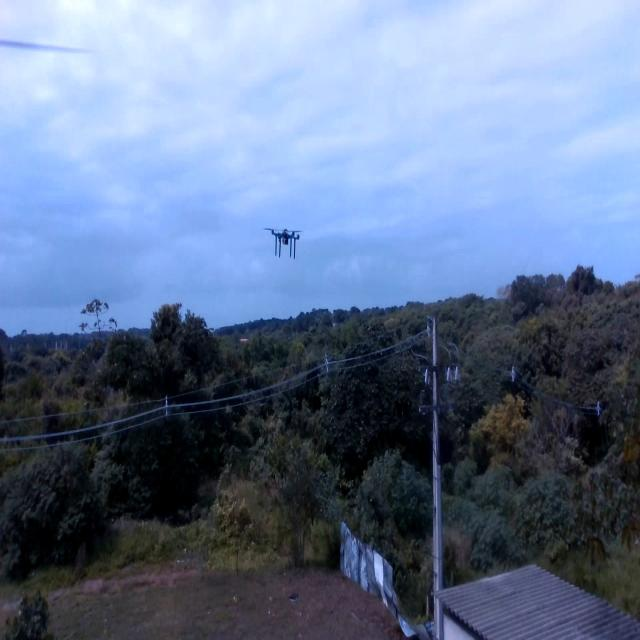-uav-: (264, 210, 307, 271)
